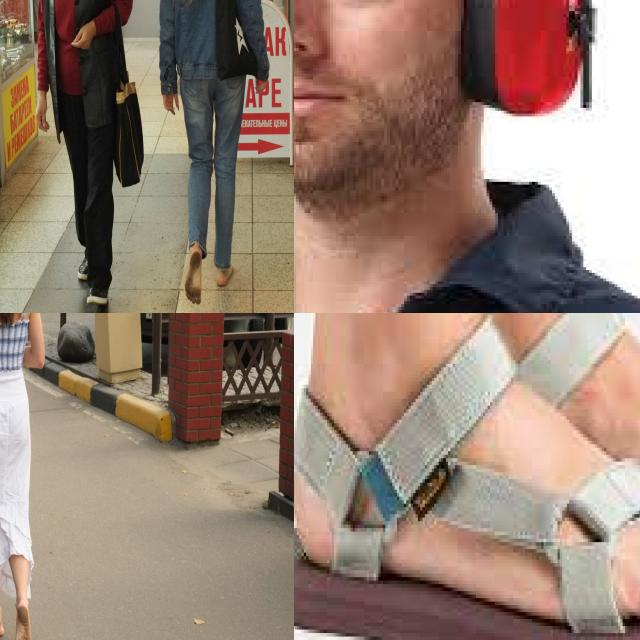Barefoots: (184, 247, 202, 305), (13, 602, 31, 640), (216, 265, 234, 286)
Ear-protection: (294, 0, 600, 132)
Sandals: (294, 313, 640, 640)
